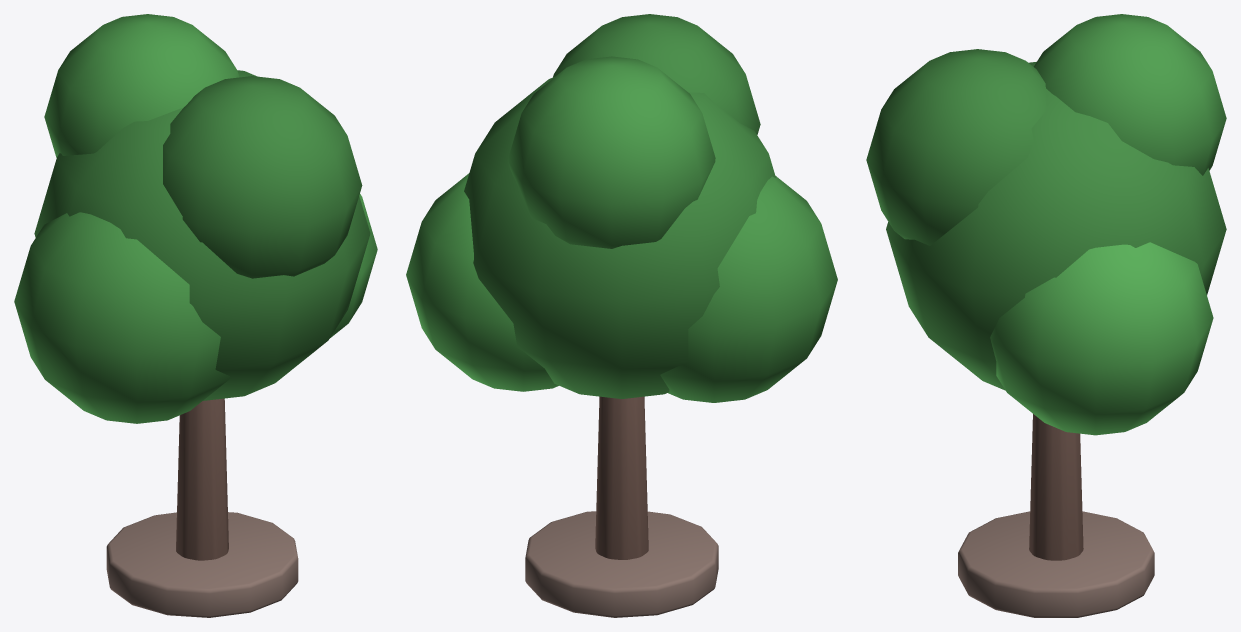
File: prop_tree.glb
The picture shows the model from 3 angles, left to right: view 1: azimuth 30°, elevation 25°; view 2: azimuth 150°, elevation 25°; view 3: azimuth 270°, elevation 25°; orthographic projection.
Visible parts, largest first — view 1: prop_tree; view 2: prop_tree; view 3: prop_tree.
Part boxes in pixels (<box>): prop_tree: <box>14,14,377,617</box>; prop_tree: <box>406,14,837,617</box>; prop_tree: <box>866,14,1226,617</box>.
Bounding box in the file's own units: 3.25 × 4.6 × 2.75.
